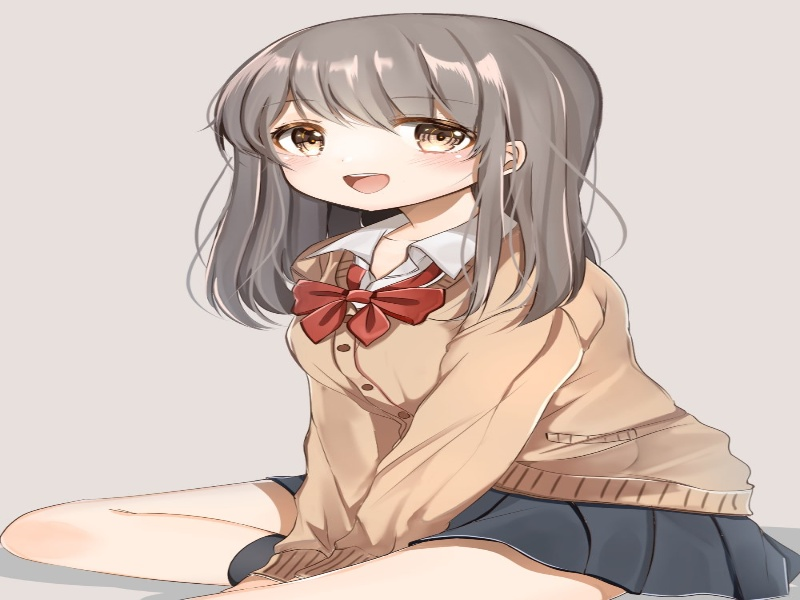person: (244, 43, 558, 226)
